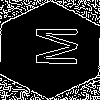M: (25, 25, 78, 68)
